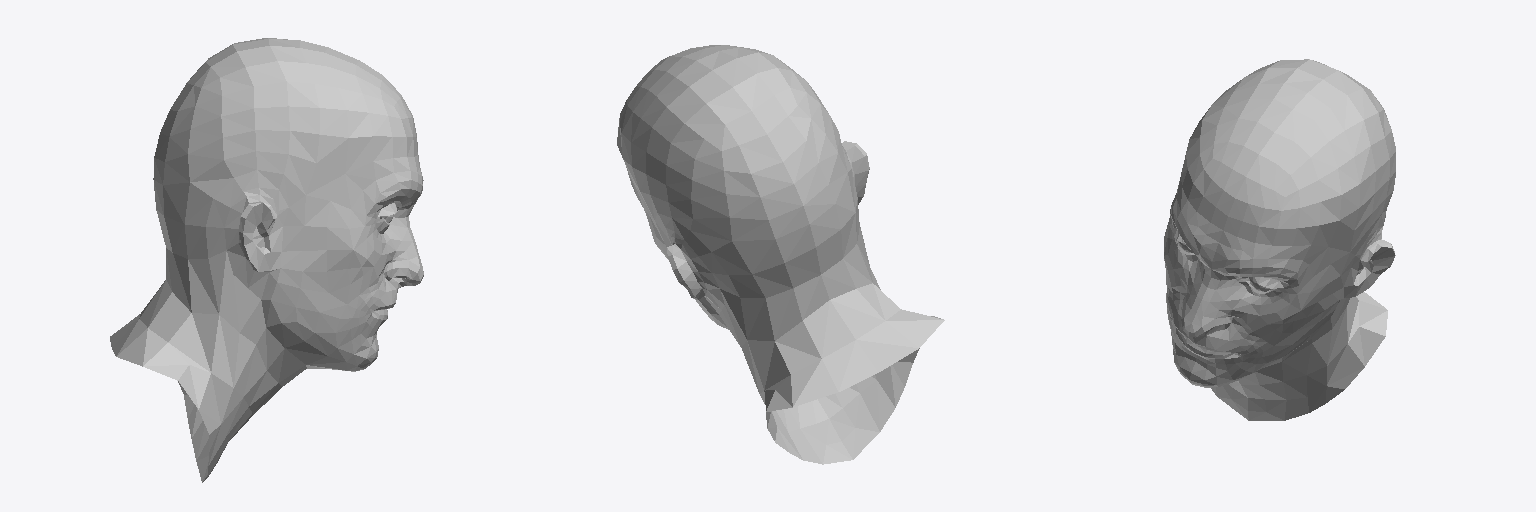
File: barmanHead.obj
3 renders of one model, left to right at view 1: azimuth 30°, elevation 25°; view 2: azimuth 150°, elevation 25°; view 3: azimuth 270°, elevation 25°, orthographic.
Parts seen in each view (by area): view 1: HeadF.001_Untitled.002; view 2: HeadF.001_Untitled.002; view 3: HeadF.001_Untitled.002.
Boxes of the visible parts, x1,y1,x2,y2 form: HeadF.001_Untitled.002: [110, 38, 423, 482]; HeadF.001_Untitled.002: [617, 45, 944, 464]; HeadF.001_Untitled.002: [1164, 59, 1395, 420].
Size of the model in its own units: 0.0301 by 0.0393 by 0.0208.